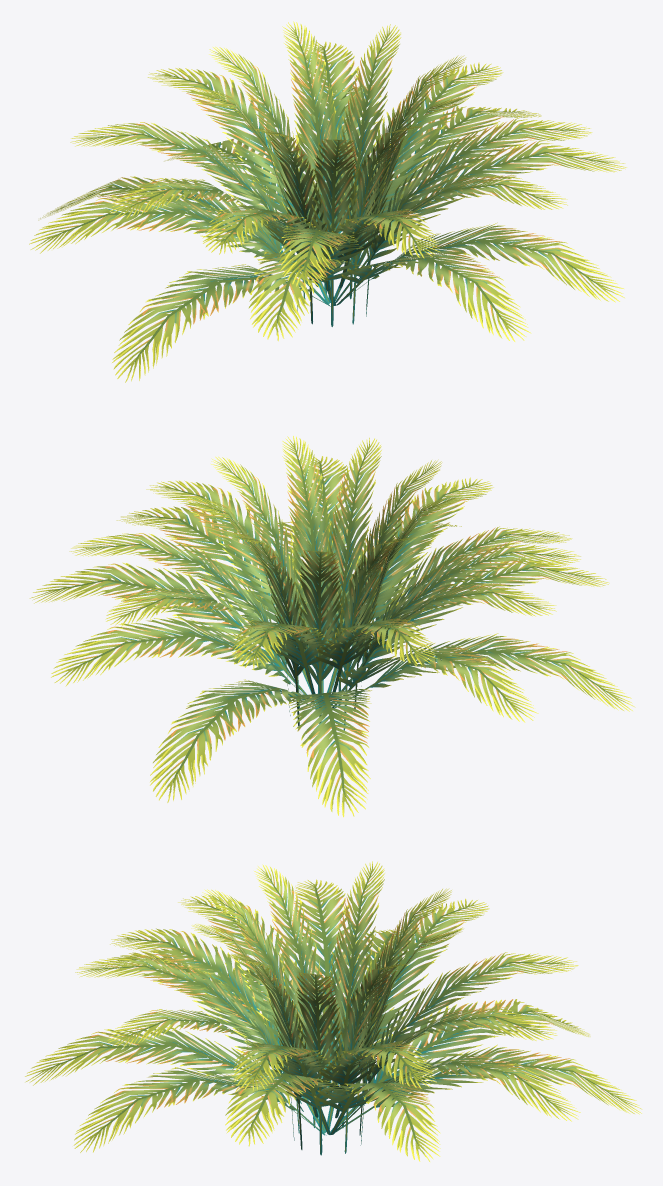
File: Fern1.fbx
3 views of the same model, one above another, from view 1: azimuth 30°, elevation 25°; view 2: azimuth 150°, elevation 25°; view 3: azimuth 270°, elevation 25° (orthographic). The views are drawn at different scales.
Parts seen in each view (by area): view 1: Fern1Comb; view 2: Fern1Comb; view 3: Fern1Comb.
Part boxes in pixels (box(x1,y1,x2,y2)): Fern1Comb: box(29, 21, 626, 382); Fern1Comb: box(29, 436, 635, 817); Fern1Comb: box(25, 861, 642, 1161).
Size of the model in its own units: 132 by 55.44 by 136.
